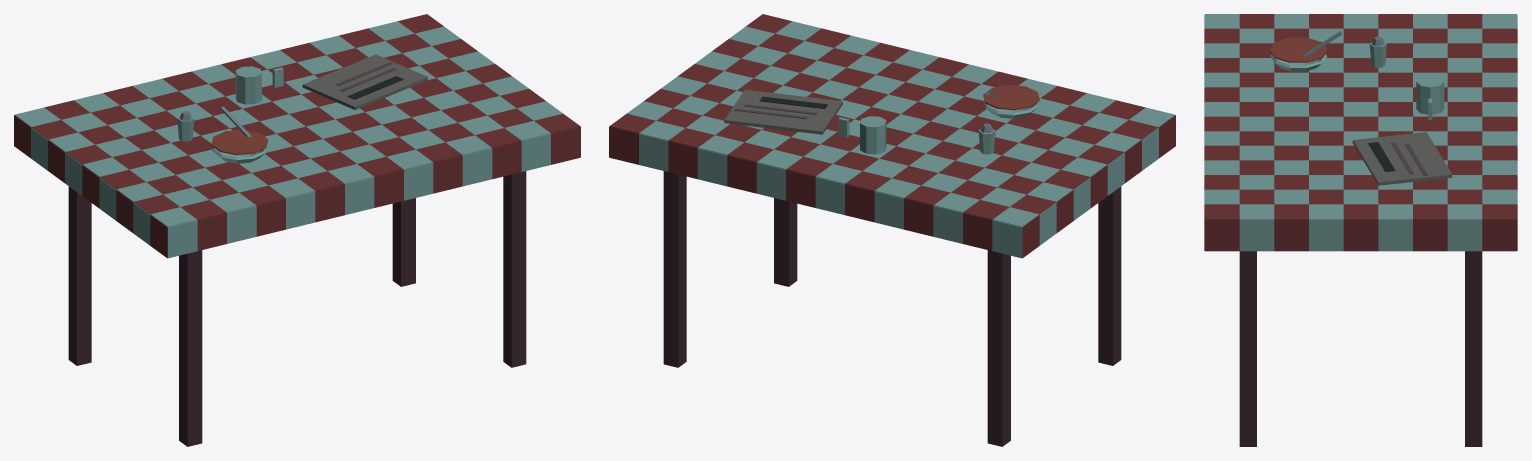
File: masa_bucatarie.glb
3 views of the same model, side by side, from view 1: azimuth 30°, elevation 25°; view 2: azimuth 150°, elevation 25°; view 3: azimuth 270°, elevation 25° (orthographic).
Parts seen in each view (by area): view 1: Masa; view 2: Masa; view 3: Masa.
Part boxes in pixels (x1=…): Masa: x1=14, y1=14, x2=580, y2=446; Masa: x1=609, y1=14, x2=1175, y2=446; Masa: x1=1204, y1=14, x2=1517, y2=446.
Bounding box in the file's own units: 1.4 × 0.9186 × 0.904.
